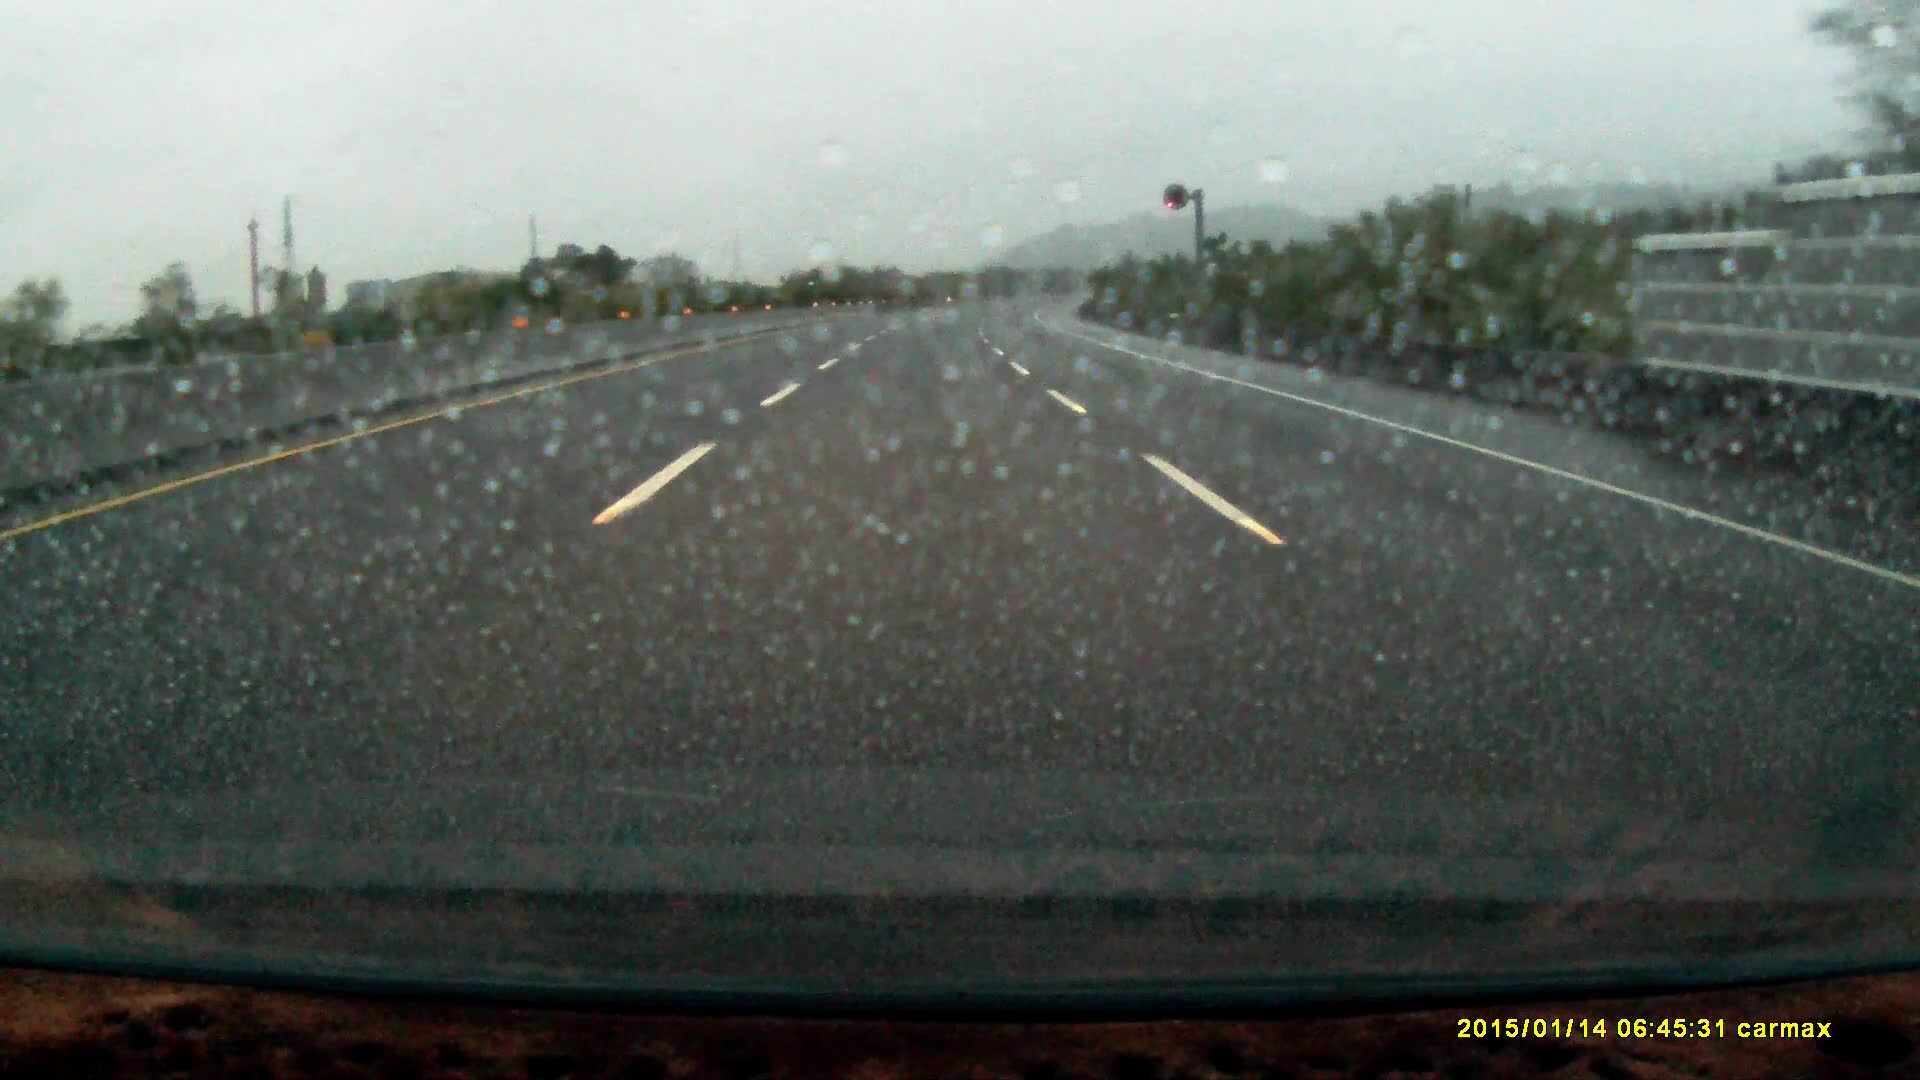vehicle: (806, 268, 847, 306)
